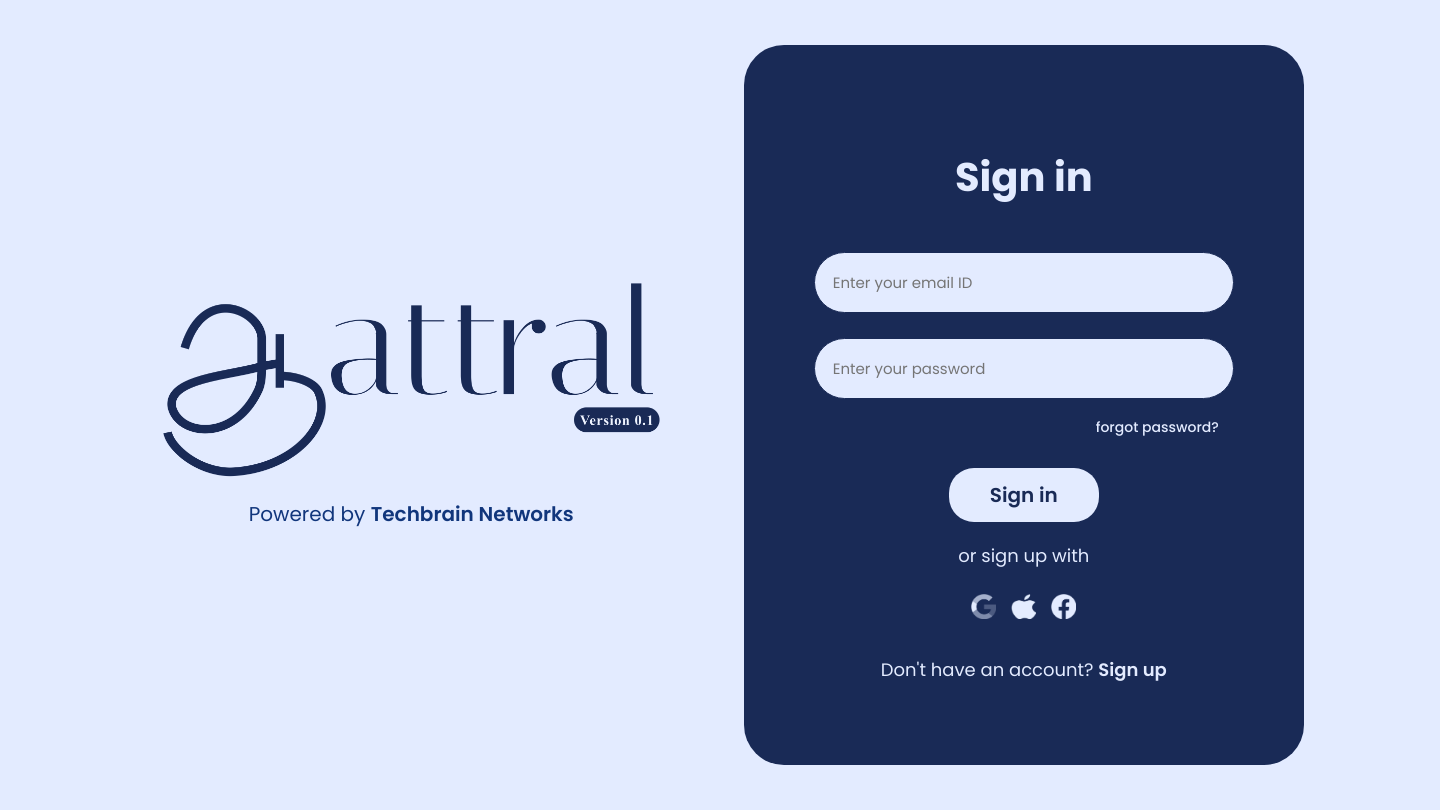
Test: Signinpage Component Tests › shows password min length error
Type "123" into the password field with placeholder "Enter your password". click: (1024, 368)
box: [814,338,1234,399]
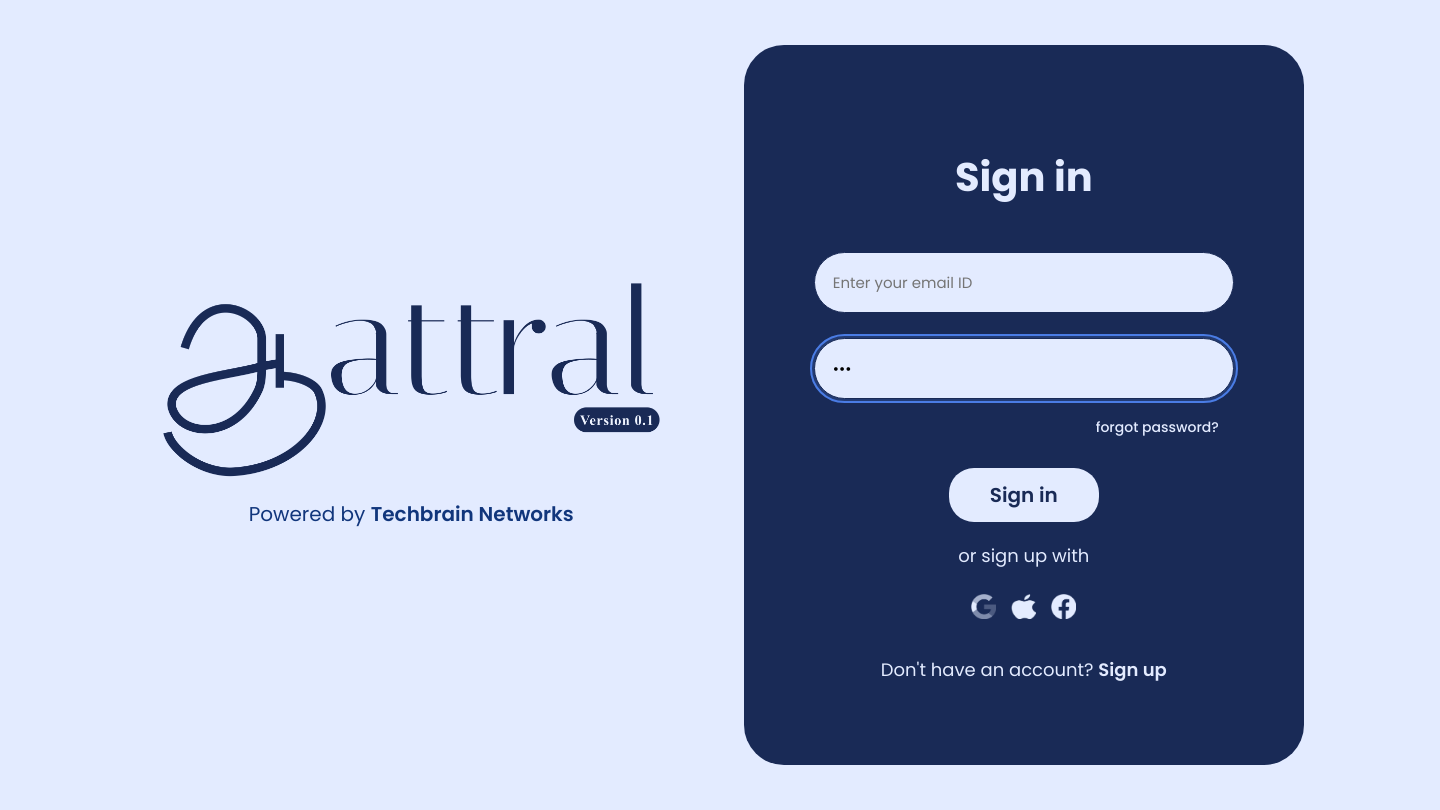
Click the button "Sign in". click: click(1024, 495)
box: [949,468,1099,522]
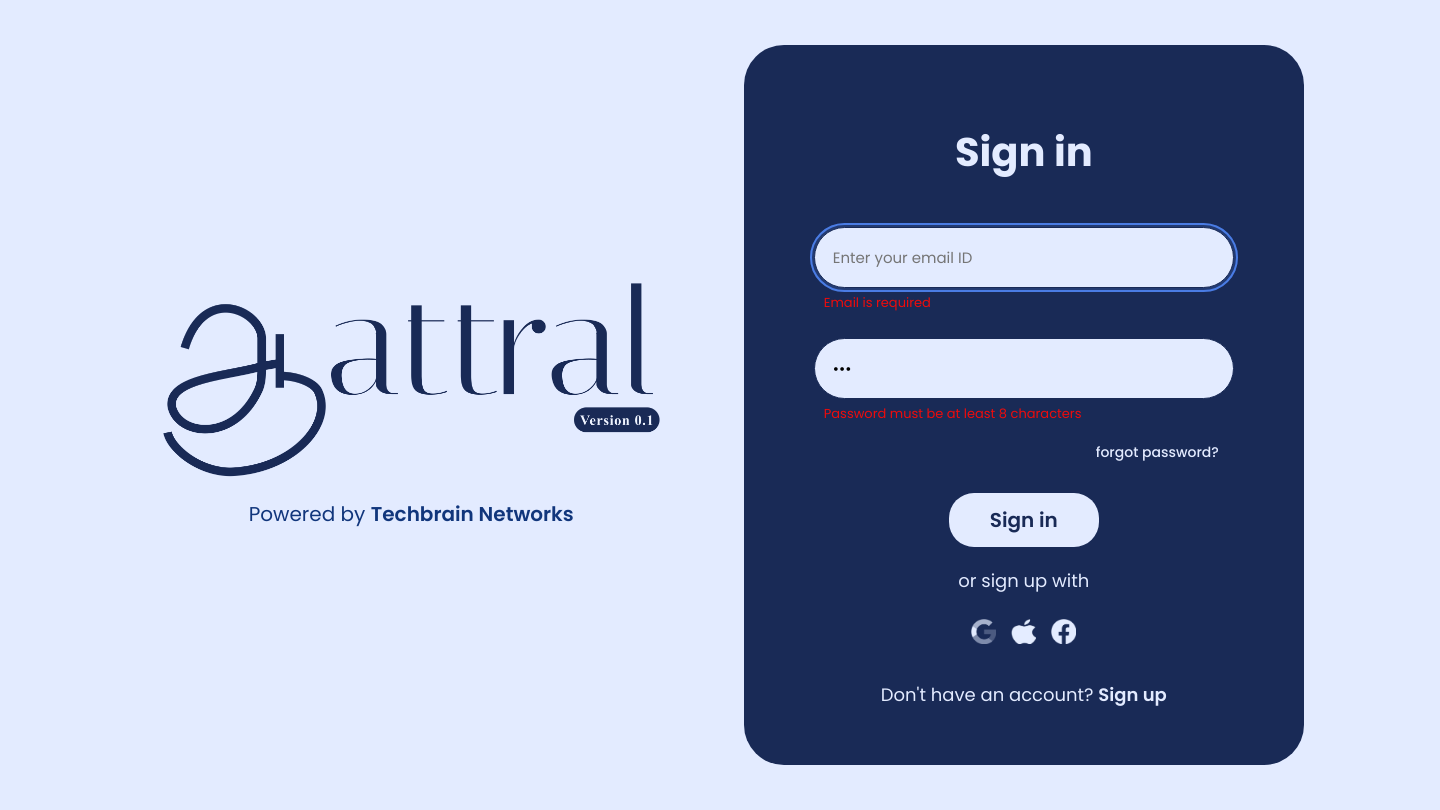
Check: the text "Password must be at least 8 characters" is shown, box [824,404,1082,423]
